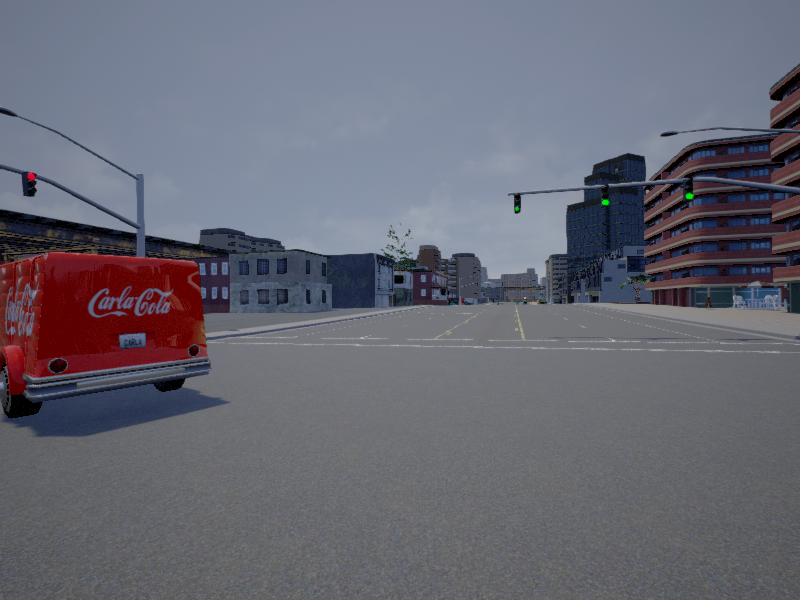Benign: (1, 254, 210, 416)
